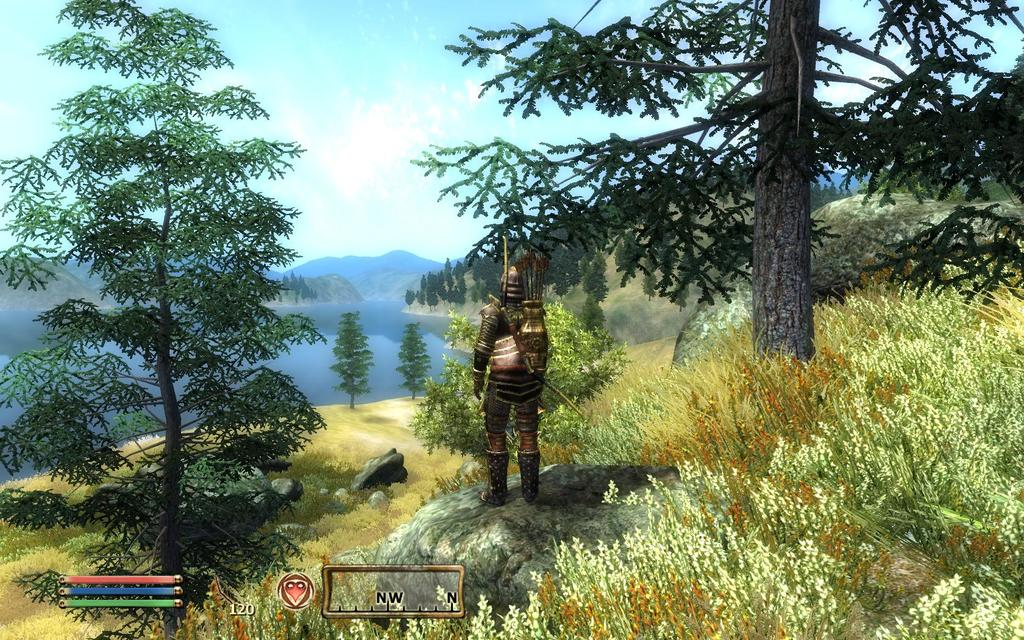Tree: (408, 0, 1023, 414), (30, 16, 314, 614), (396, 174, 830, 311), (400, 290, 631, 469), (325, 309, 371, 408), (389, 314, 430, 398), (581, 294, 607, 340)
